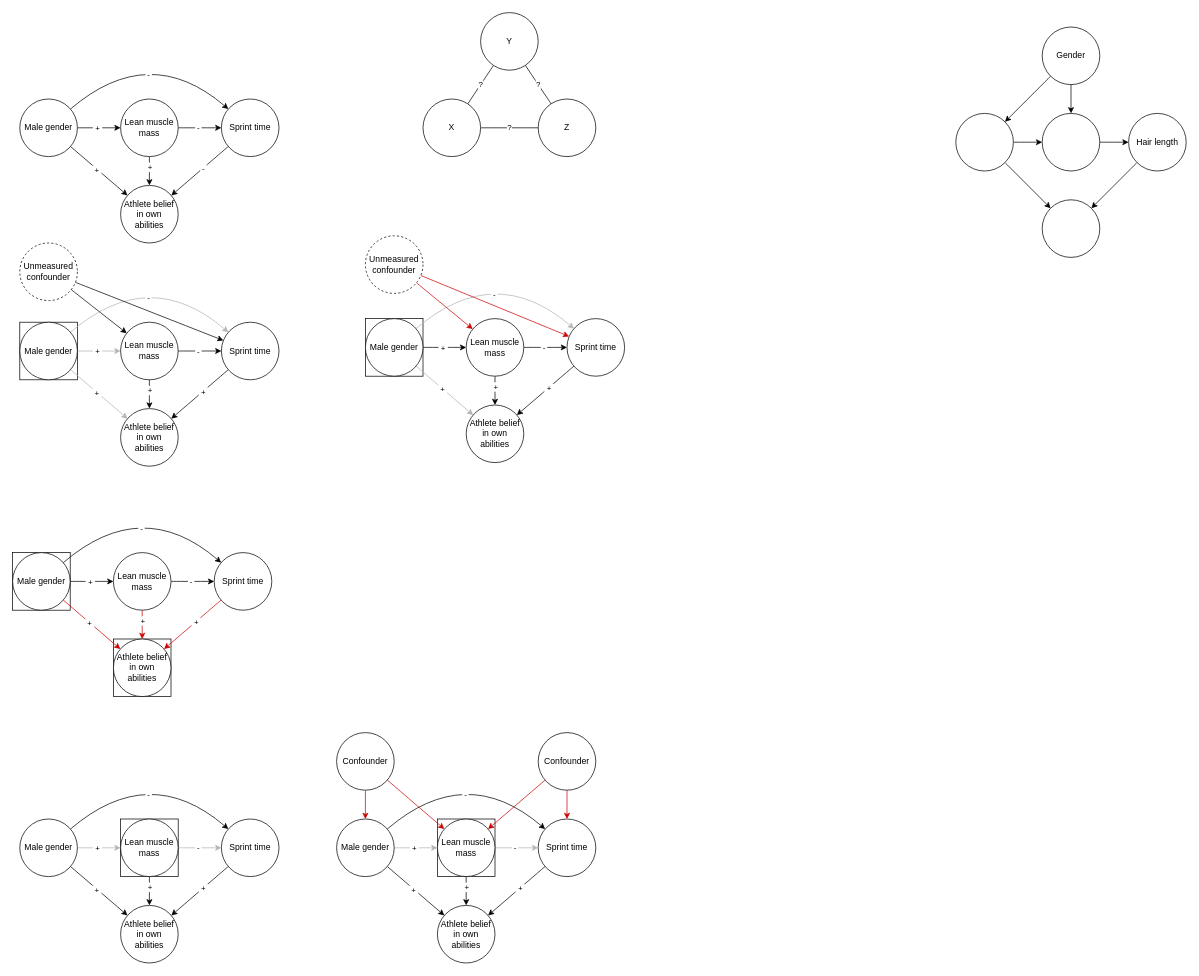
The diagram is 1199 pixels wide and 976 high, and some of its shapes have lost their labels. Each missing label, with the centre of its shape:
"Attractiveness" belongs at pixel 1070 228.
"Height" belongs at pixel 984 142.
"Preferred hair style" belongs at pixel 1070 142.
